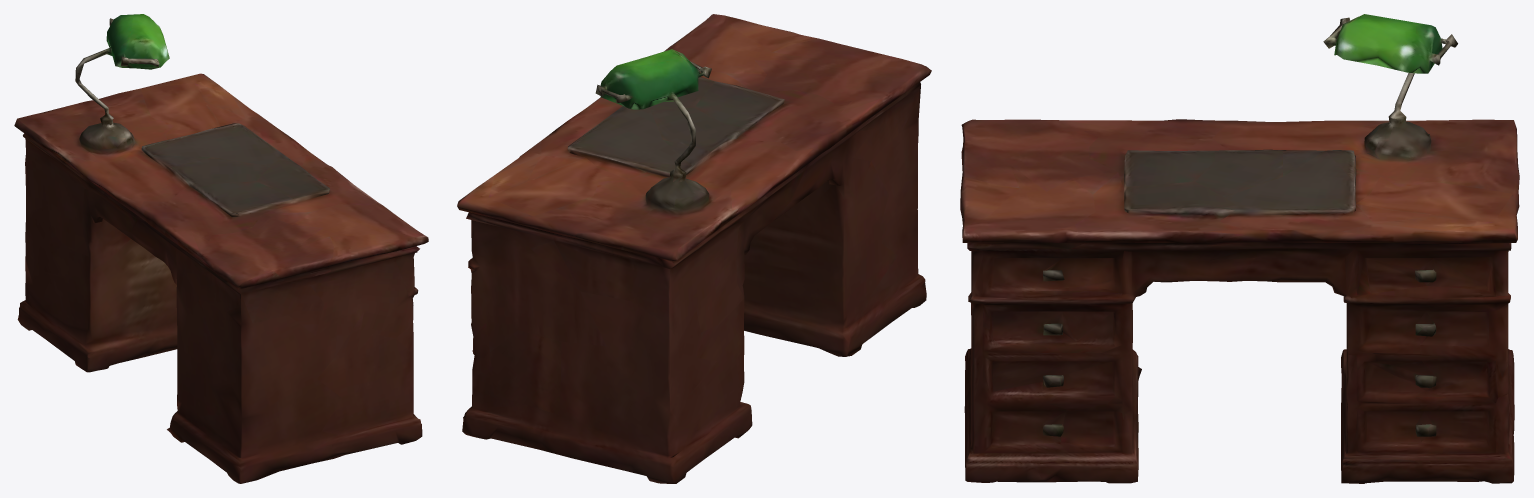
The model's file is exec-desk.glb.
3 views of the same model, side by side, from view 1: azimuth 30°, elevation 25°; view 2: azimuth 150°, elevation 25°; view 3: azimuth 270°, elevation 25° (orthographic). The views are drawn at different scales.
Parts seen in each view (by area): view 1: tripo_node_52056925-d0c4-4622-9258-f78e87105129; view 2: tripo_node_52056925-d0c4-4622-9258-f78e87105129; view 3: tripo_node_52056925-d0c4-4622-9258-f78e87105129.
Part boxes in pixels (x1=…): tripo_node_52056925-d0c4-4622-9258-f78e87105129: x1=14, y1=14, x2=428, y2=483; tripo_node_52056925-d0c4-4622-9258-f78e87105129: x1=457, y1=14, x2=931, y2=483; tripo_node_52056925-d0c4-4622-9258-f78e87105129: x1=960, y1=14, x2=1519, y2=483.
Bounding box in the file's own units: 0.4928 × 0.7795 × 1.
Materials: 1 (1 with a texture image).
